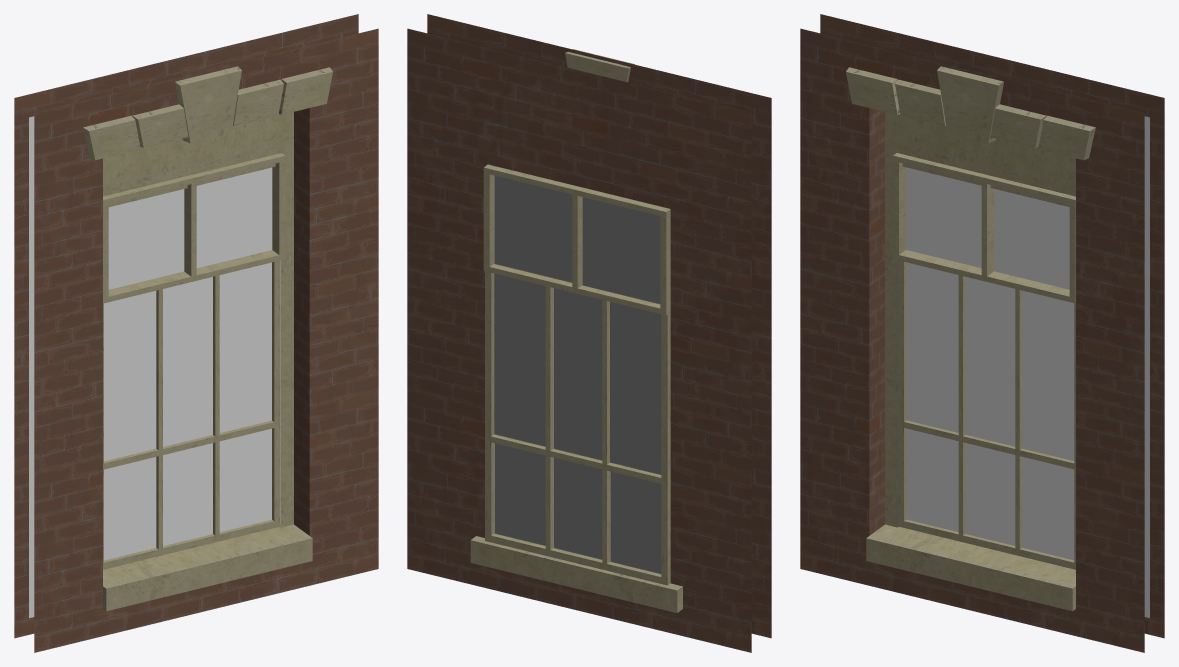
Rendered from Brick_Window_Trim.gltf.
3 views of the same model, side by side, from view 1: azimuth 30°, elevation 25°; view 2: azimuth 150°, elevation 25°; view 3: azimuth 330°, elevation 25° (orthographic).
Parts seen in each view (by area): view 1: Brick_Window_Trim; view 2: Brick_Window_Trim; view 3: Brick_Window_Trim.
Boxes of the visible parts, x1=… form: Brick_Window_Trim: x1=14, y1=14, x2=378, y2=652; Brick_Window_Trim: x1=407, y1=14, x2=771, y2=652; Brick_Window_Trim: x1=800, y1=14, x2=1164, y2=652.
Bounding box in the file's own units: 2 × 3 × 0.304.
Materials: 5 (3 with a texture image).
